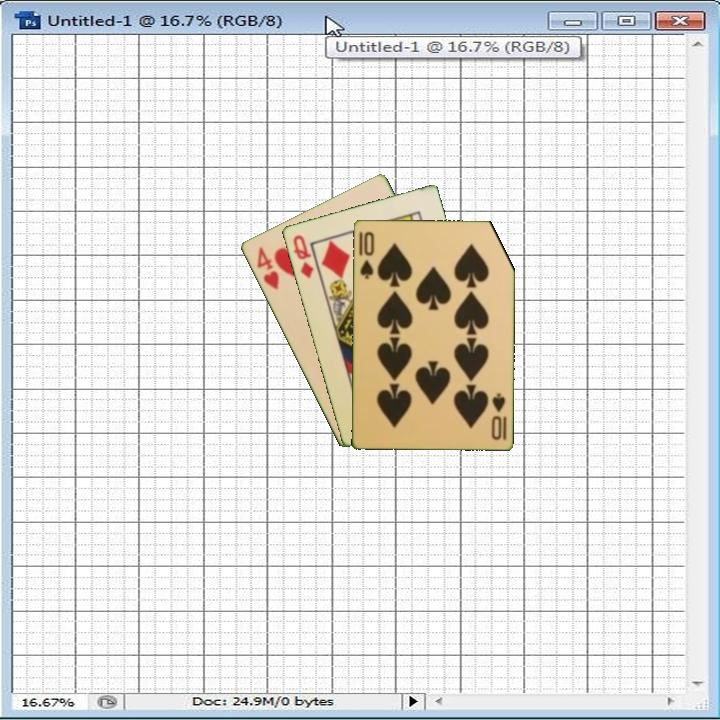10s: (488, 390, 509, 442), (356, 228, 376, 281)
4h: (253, 243, 282, 292)
Qd: (289, 231, 316, 281)
